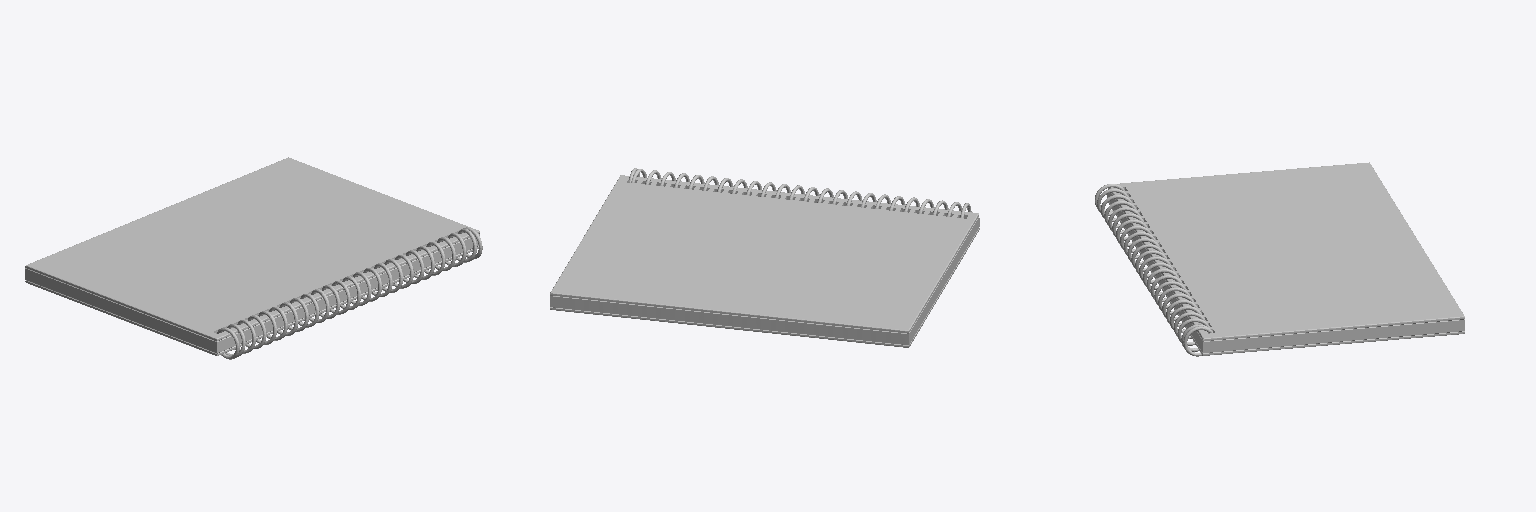
File: notebook.obj
3 views of the same model, side by side, from view 1: azimuth 30°, elevation 25°; view 2: azimuth 150°, elevation 25°; view 3: azimuth 270°, elevation 25° (orthographic).
Visible parts, largest first — view 1: notebook; view 2: notebook; view 3: notebook.
Boxes of the visible parts, <box> form: notebook: <box>25,157,482,359</box>; notebook: <box>550,168,979,347</box>; notebook: <box>1095,162,1464,356</box>.
Bounding box in the file's own units: 0.3163 × 0.0278 × 0.2735.